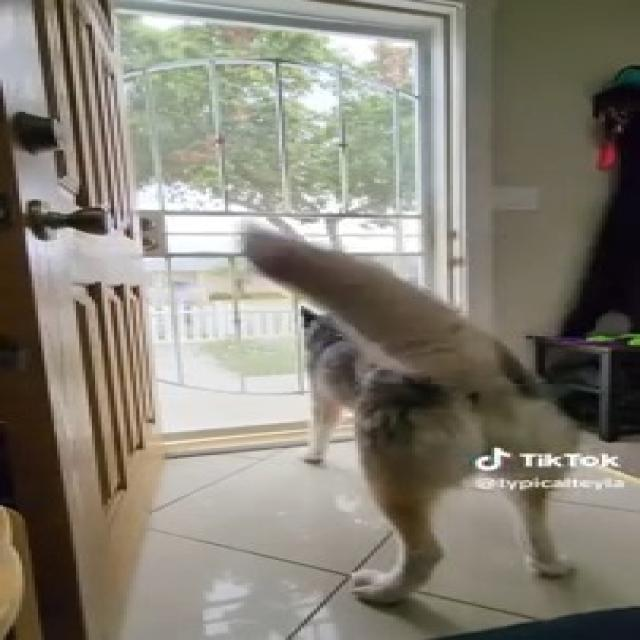dogs: (224, 224, 630, 614)
